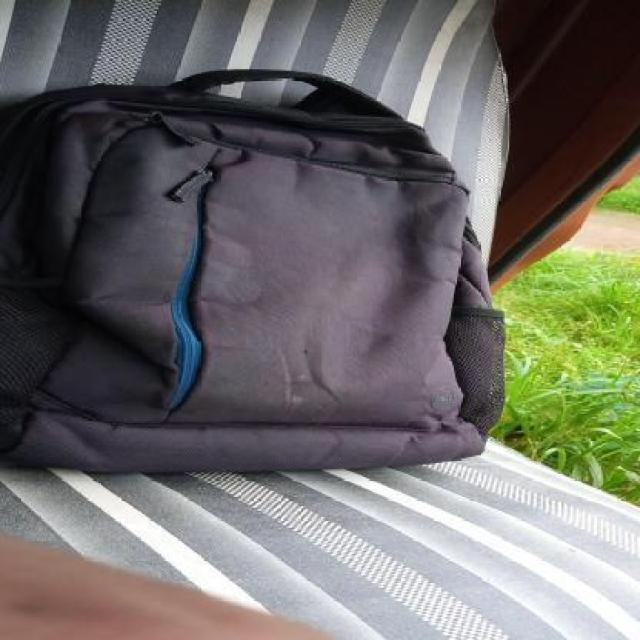backpack: (0, 63, 509, 479)
